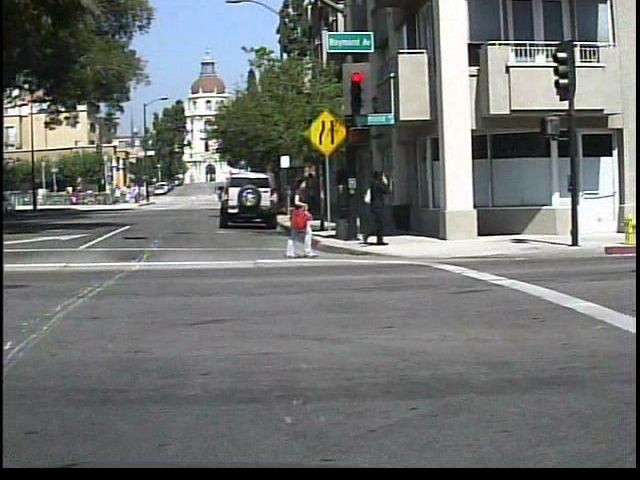person: (359, 163, 401, 249), (282, 173, 323, 261)
